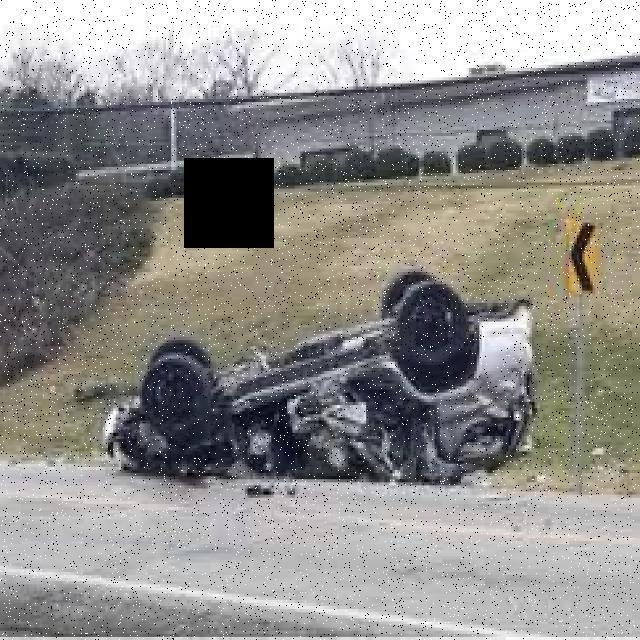single accident: (52, 258, 583, 513)
